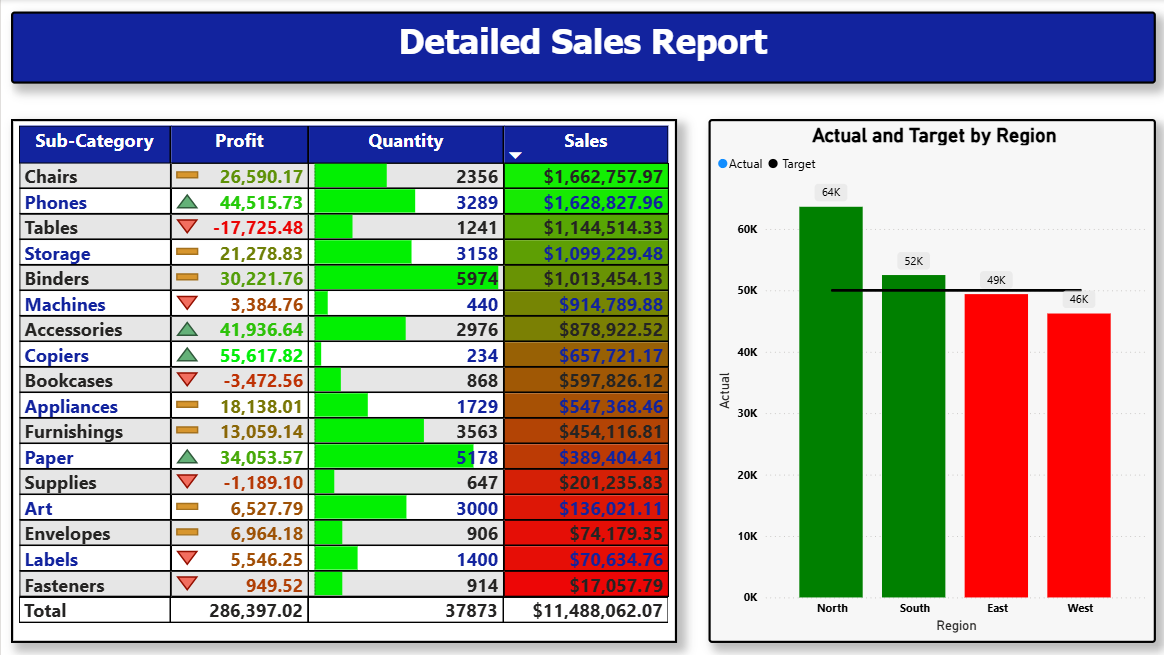

What the dashboard file says about the page in this screenshot:
{"tool":"powerbi","page":{"name":"Page 2","canvas":[1280,720],"ordinal":1},"visuals":[{"type":"textbox","box":[11,13.7,1257,79.6],"z":0},{"type":"tableEx","fields":{"Values":["Orders.Sub-Category","Sum(Orders.Profit)","Sum(Orders.Quantity)","Sum(Orders.Revenue)"]},"box":[11,131.7,731,575],"z":1000},{"type":"lineClusteredColumnComboChart","fields":{"Y":["Sum(Sheet1.Actual)"],"Y2":["Sum(Sheet1.Target)"],"Category":["Sheet1.Region"]},"box":[776.7,131.7,491.3,575],"z":2000}]}

Visuals, with their boxes in screenshot pixels (x1, y1, x2, y2), scaled from the page's 1280x720 canvas onto the 1164x655 screenshot:
textbox: detection(10, 12, 1153, 85)
tableEx - Orders.Sub-Category x Sum(Orders.Profit): detection(10, 120, 675, 643)
lineClusteredColumnComboChart - Sum(Sheet1.Actual) x Sum(Sheet1.Target): detection(706, 120, 1153, 643)
